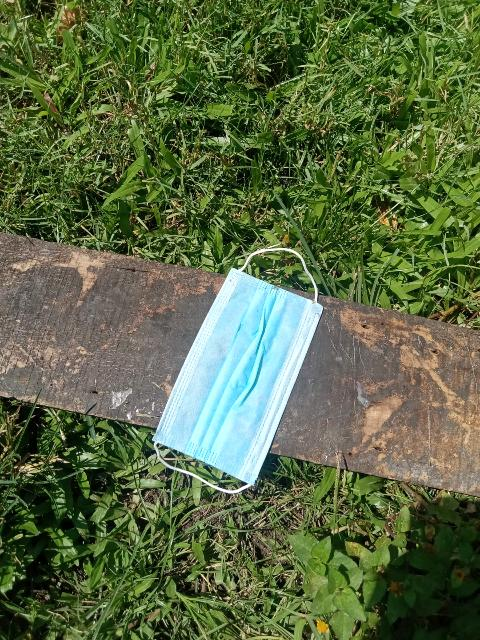mask: (137, 224, 354, 513)
